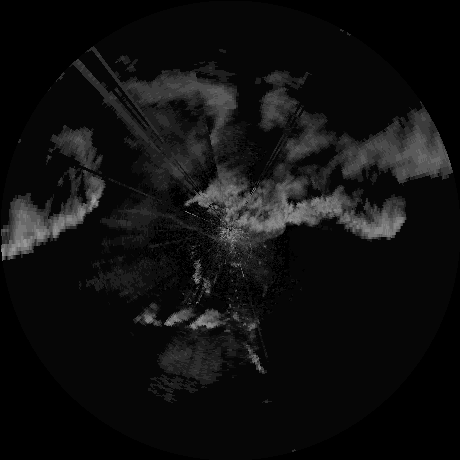frontgust: (122, 208, 219, 240)
